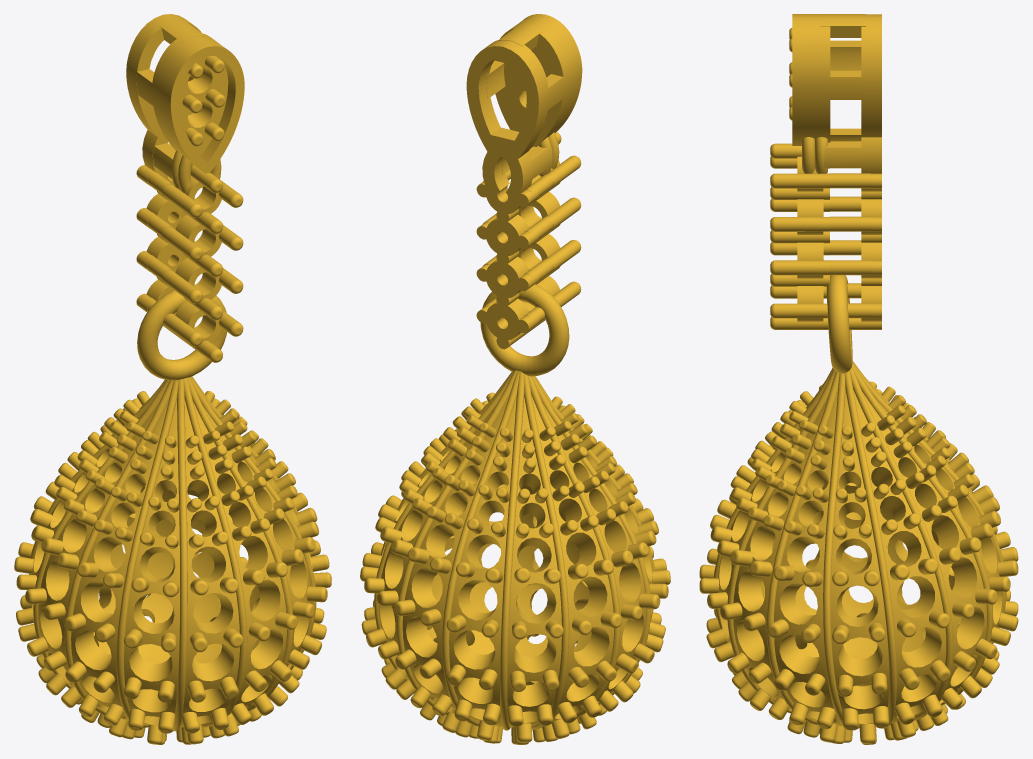
The model's file is golden.gltf.
3 renders of one model, left to right at view 1: azimuth 30°, elevation 25°; view 2: azimuth 150°, elevation 25°; view 3: azimuth 270°, elevation 25°, orthographic. The views are drawn at different scales.
Parts seen in each view (by area): view 1: 1; view 2: 1; view 3: 1.
Boxes of the visible parts, x1,y1,x2,y2 form: 1: (14,14,331,744); 1: (360,14,670,744); 1: (699,14,1018,744).
Size of the model in its own units: 1.53 by 3.74 by 1.53.
